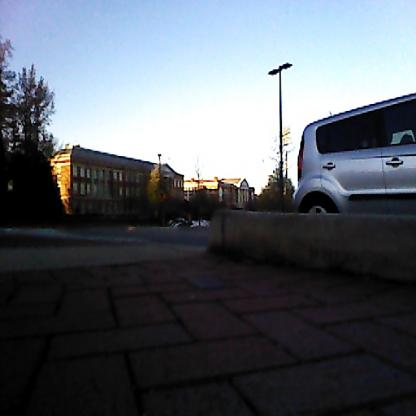Edge: (101, 238, 411, 303)
Sidewalk: (2, 234, 415, 416)
